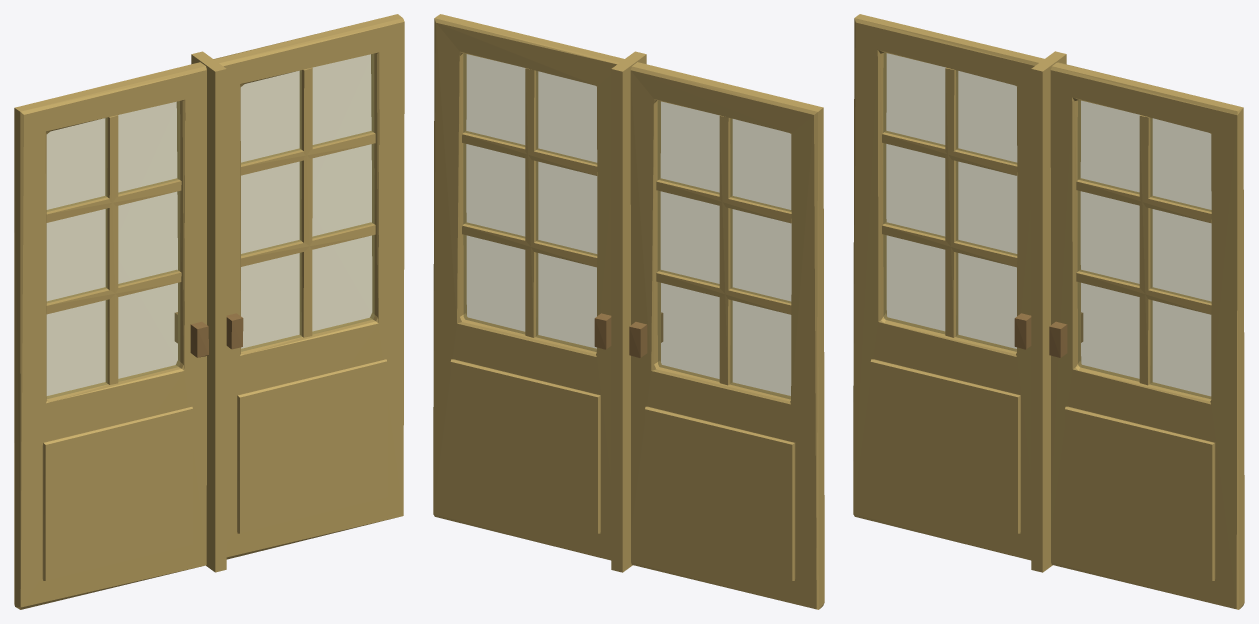
File: SM_Kit_Door2_Glass_LOD2.glb
The picture shows the model from 3 angles, left to right: view 1: azimuth 30°, elevation 25°; view 2: azimuth 150°, elevation 25°; view 3: azimuth 330°, elevation 25°; orthographic projection.
Visible parts, largest first — view 1: SM_Kit_Door2_Glass_LOD2; view 2: SM_Kit_Door2_Glass_LOD2; view 3: SM_Kit_Door2_Glass_LOD2.
Boxes of the visible parts, x1,y1,x2,y2 form: SM_Kit_Door2_Glass_LOD2: [14, 14, 404, 609]; SM_Kit_Door2_Glass_LOD2: [433, 14, 824, 609]; SM_Kit_Door2_Glass_LOD2: [853, 14, 1244, 609].
Size of the model in its own units: 1.67 by 2.08 by 0.18.
